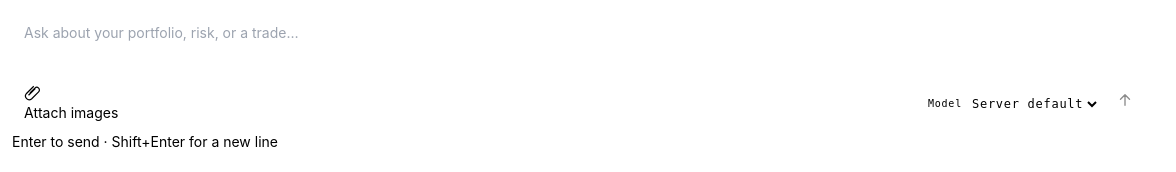
Test: AskComposer — Enter to send › disables the send button on empty input and enables it once typed
Expected: the button named "Send" is disabled, [1108, 88, 1142, 110]
Type "scan MU flow" into the text box named "Ask Radon" at (588, 44), box [12, 12, 1164, 76]
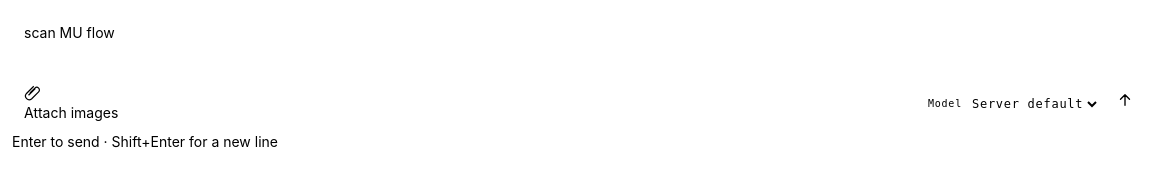
Expected: the button named "Send" is enabled, [1108, 88, 1142, 110]
